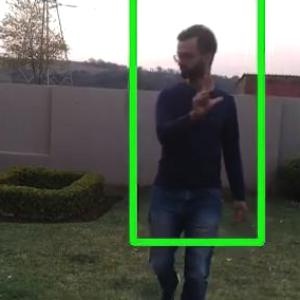land_hand: (183, 71, 222, 121)
